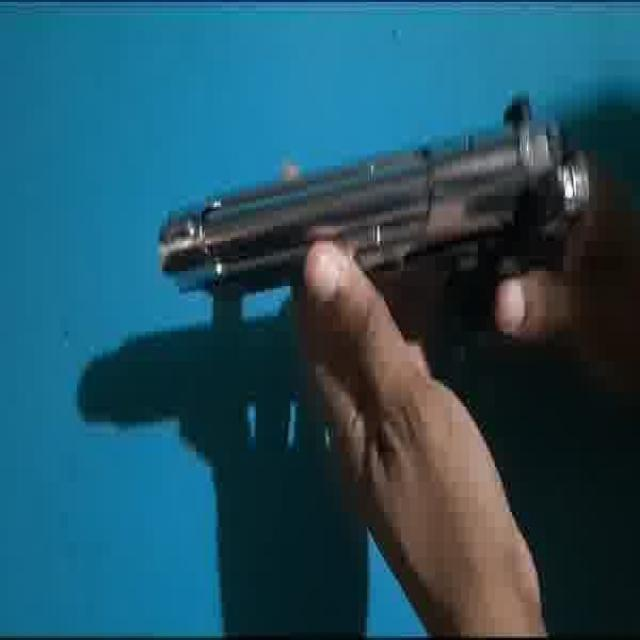weapon: (156, 91, 594, 302)
